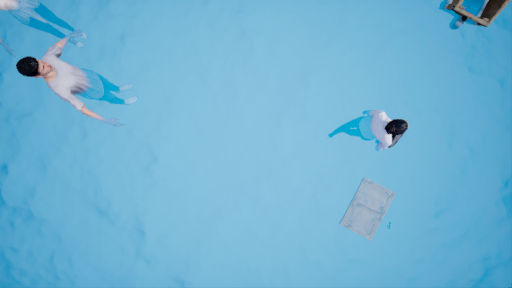person: (19, 37, 137, 124), (324, 110, 411, 157)
